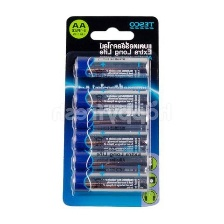battery: (68, 107, 152, 131), (72, 55, 152, 80), (69, 172, 152, 196), (70, 151, 152, 175), (70, 87, 152, 109), (68, 131, 150, 152)
